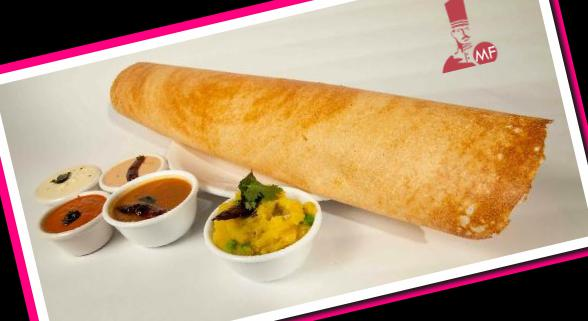dosa: (101, 61, 555, 243)
